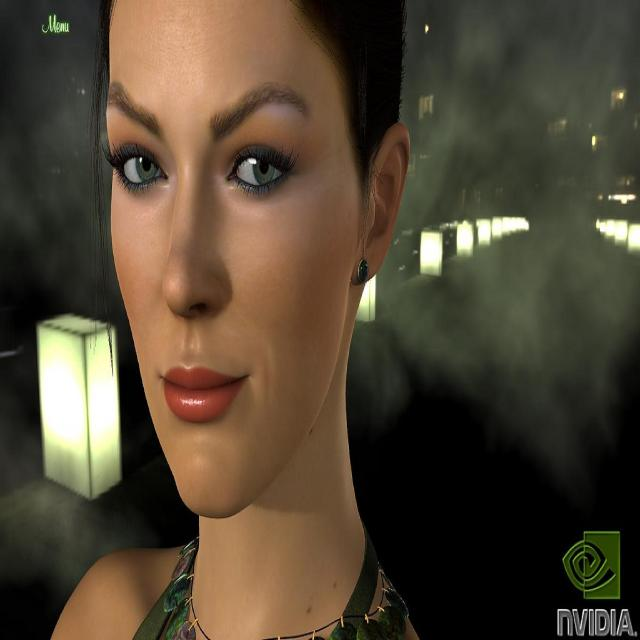nvidia: (564, 532, 622, 602)
